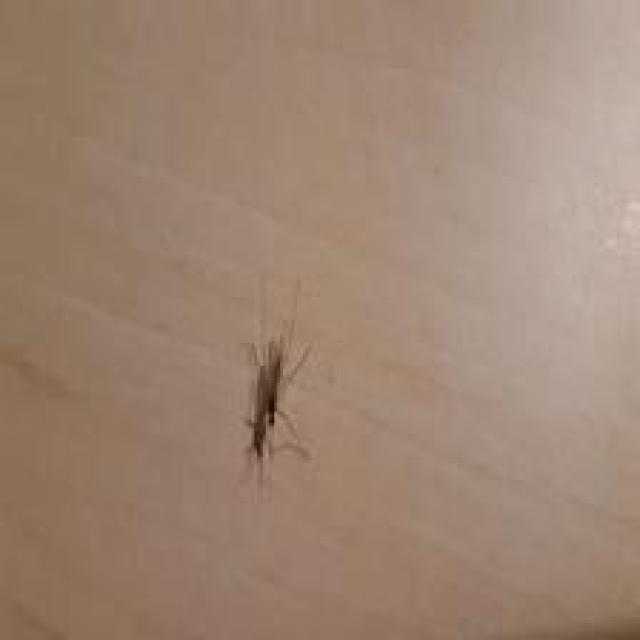Culex: (237, 273, 314, 490)
